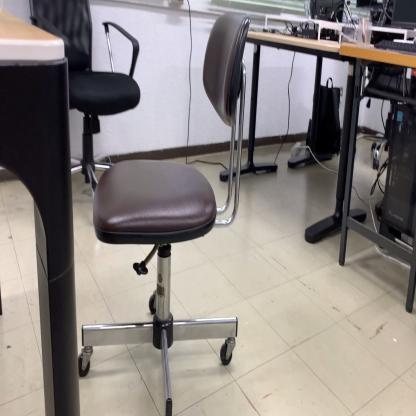chair: (76, 9, 252, 412), (27, 0, 140, 196)
